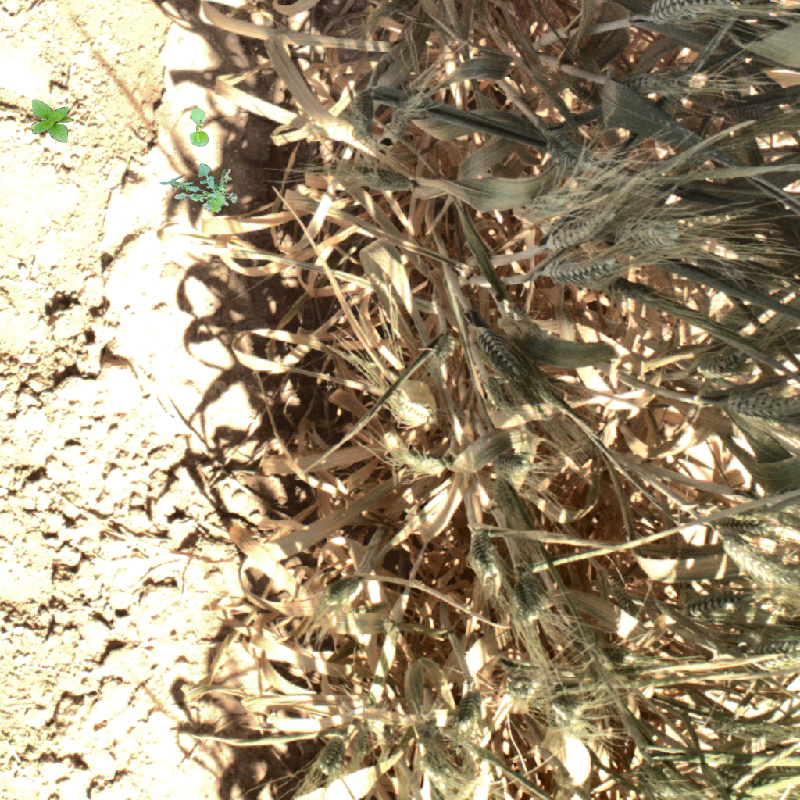spikelet: (720, 537, 799, 602), (704, 755, 799, 800), (416, 731, 475, 800), (378, 431, 447, 478), (543, 207, 613, 251), (475, 324, 524, 382), (723, 387, 800, 423), (622, 69, 709, 98), (540, 254, 621, 285), (467, 528, 504, 591), (616, 218, 682, 252), (645, 1, 728, 28), (385, 89, 428, 138), (386, 390, 435, 427), (512, 569, 547, 620), (692, 346, 748, 376), (314, 733, 349, 779), (758, 632, 799, 671), (423, 331, 457, 375), (367, 174, 416, 199)
weed: (159, 163, 238, 213), (31, 99, 74, 143), (190, 108, 209, 147)
